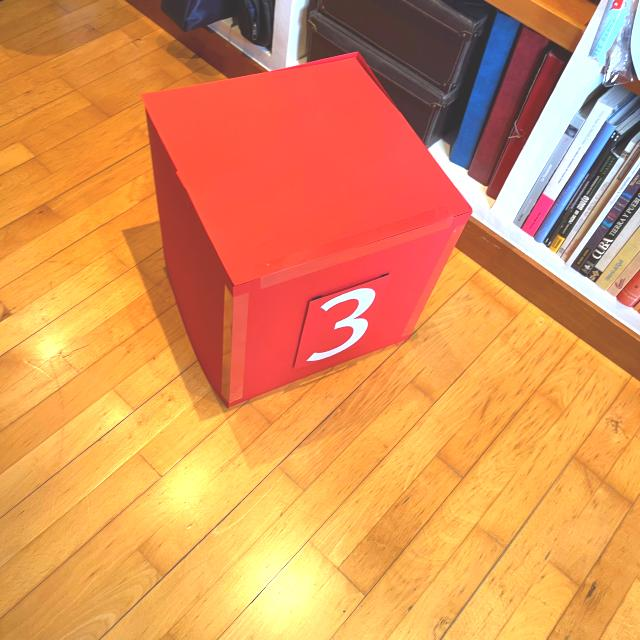box: (138, 50, 473, 409)
